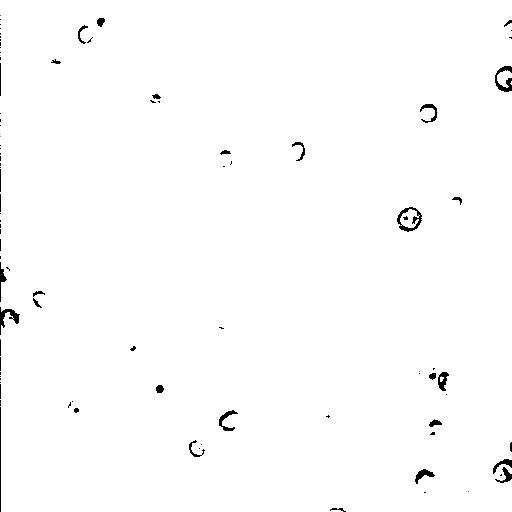micro-algae: (387, 245, 428, 288), (379, 17, 419, 59), (96, 402, 135, 440), (441, 483, 489, 511), (310, 51, 346, 87), (0, 299, 29, 341), (85, 5, 117, 35), (144, 373, 173, 405), (395, 205, 423, 233), (206, 148, 236, 174), (417, 358, 442, 387), (120, 338, 146, 363), (217, 411, 243, 434), (285, 140, 308, 164), (491, 458, 512, 484), (493, 63, 512, 91), (414, 468, 437, 491), (417, 101, 439, 125), (45, 58, 71, 77), (436, 369, 457, 391), (125, 269, 146, 289), (31, 289, 51, 309), (77, 23, 95, 45), (423, 419, 443, 437), (1, 309, 17, 331), (69, 402, 86, 421), (190, 440, 207, 457), (1, 263, 13, 283), (502, 17, 511, 40)
